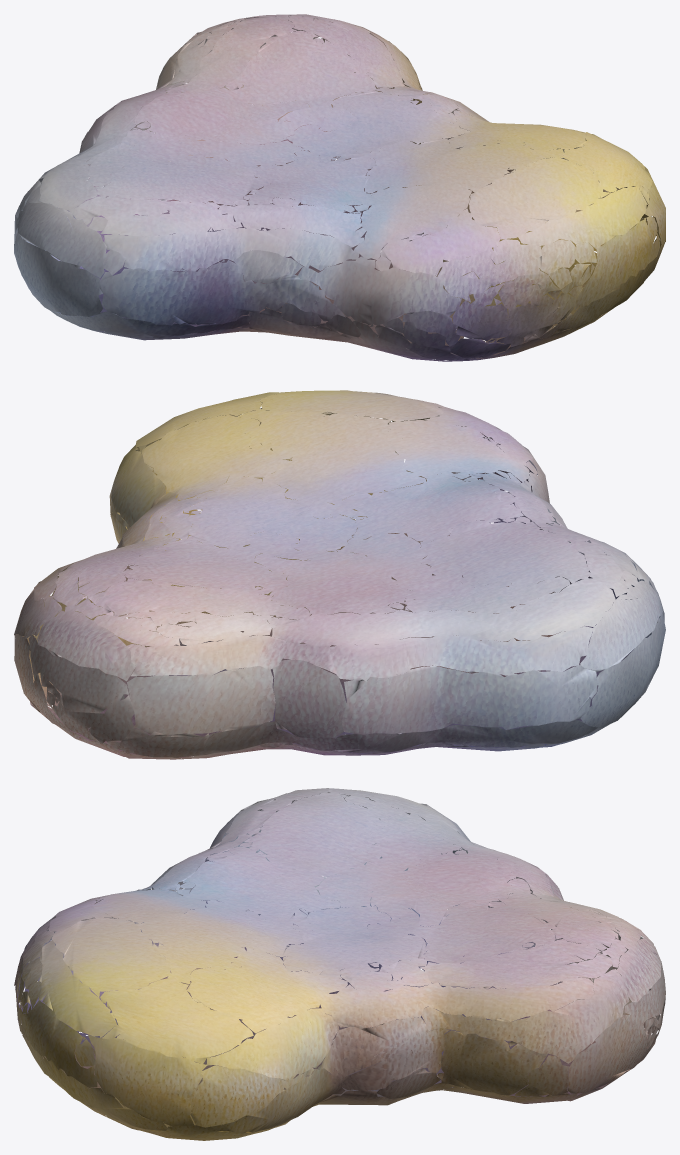
File: Pastel Gradient Cloud.glb
3 views of the same model, one above another, from view 1: azimuth 30°, elevation 25°; view 2: azimuth 150°, elevation 25°; view 3: azimuth 270°, elevation 25° (orthographic). The views are drawn at different scales.
Parts seen in each view (by area): view 1: texture_mapping; view 2: texture_mapping; view 3: texture_mapping.
Part boxes in pixels (box(x1,y1,x2,y2)): texture_mapping: box(14, 14, 665, 361); texture_mapping: box(14, 390, 665, 759); texture_mapping: box(14, 788, 665, 1140).
Size of the model in its own units: 0.963 by 0.254 by 1.
1 material, 1 textured.
